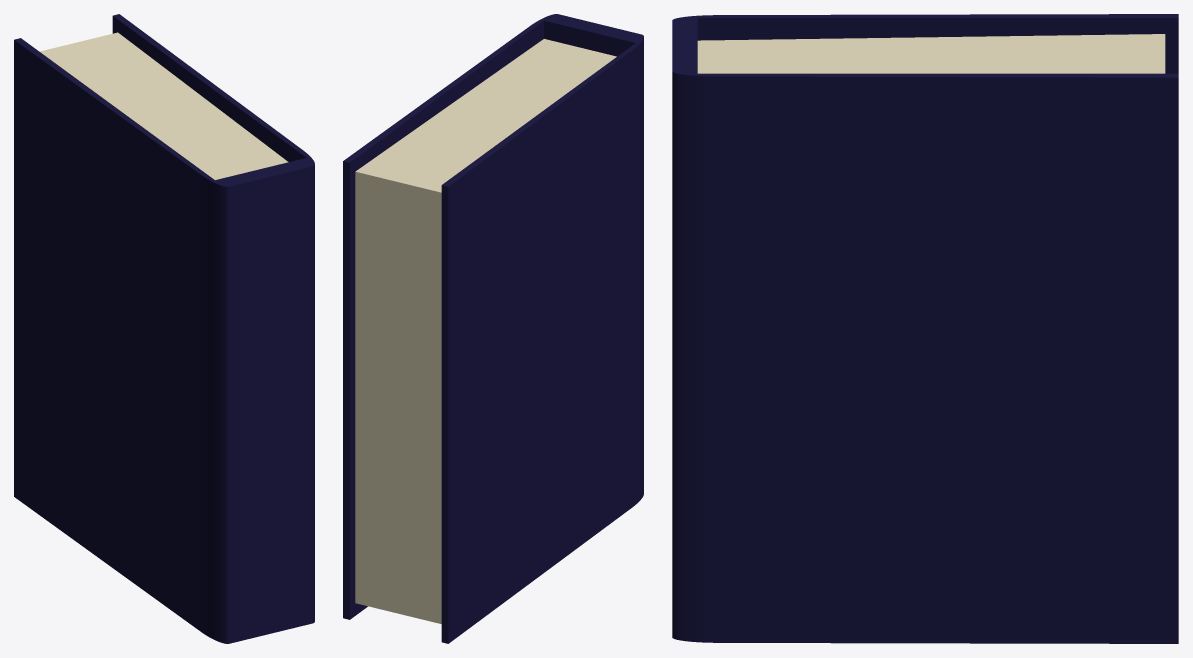
File: Book 4.fbx
3 views of the same model, side by side, from view 1: azimuth 30°, elevation 25°; view 2: azimuth 150°, elevation 25°; view 3: azimuth 270°, elevation 25° (orthographic). The views are drawn at different scales.
Parts seen in each view (by area): view 1: Cube; view 2: Cube; view 3: Cube.
Part boxes in pixels (x1,y1,x2,y2): Cube: (14,14,314,643); Cube: (343,14,643,643); Cube: (672,14,1178,643).
Bounding box in the file's own units: 34.04 × 141 × 114.
